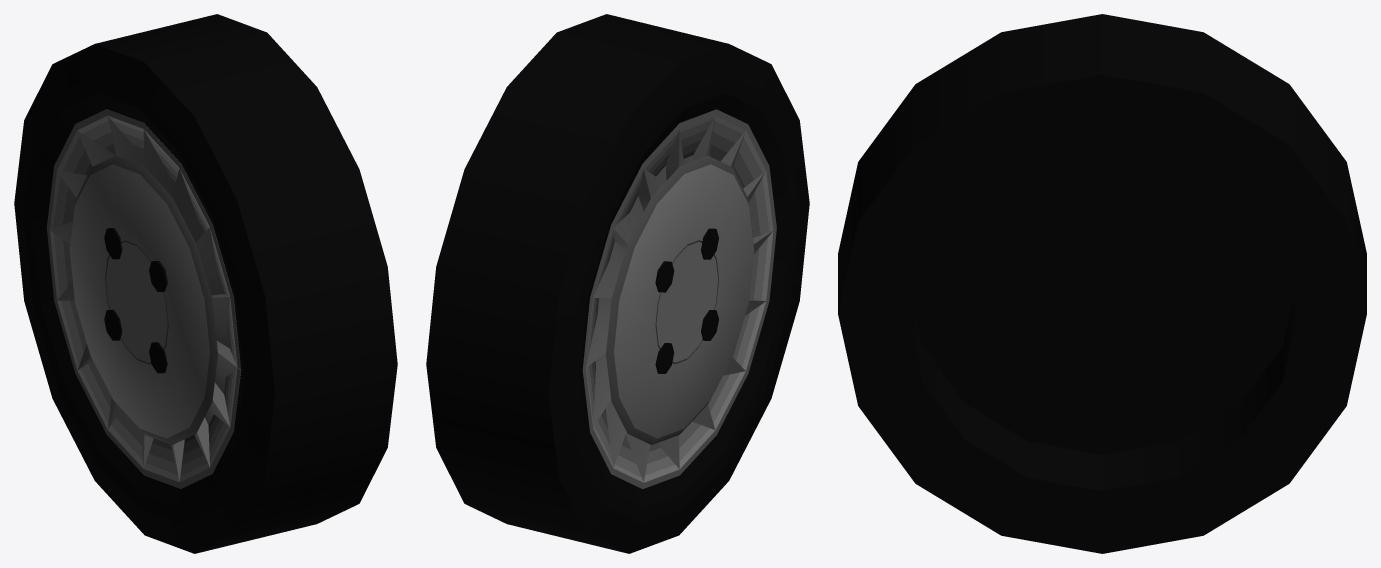
Rendered from SILVIAWheel.fbx.
3 views of the same model, side by side, from view 1: azimuth 30°, elevation 25°; view 2: azimuth 150°, elevation 25°; view 3: azimuth 270°, elevation 25° (orthographic).
Parts seen in each view (by area): view 1: RR; view 2: RR; view 3: RR.
Boxes of the visible parts, x1,y1,x2,y2 form: RR: (14, 14, 397, 553); RR: (426, 14, 809, 553); RR: (838, 14, 1366, 553).
Size of the model in its own units: 18.95 by 64.95 by 64.95.
